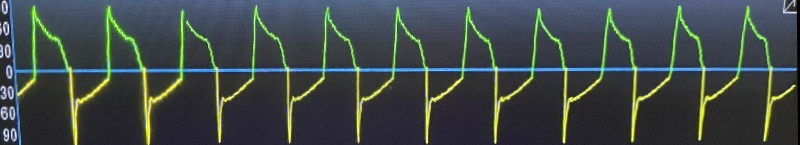peepi: (15, 0, 787, 145)
